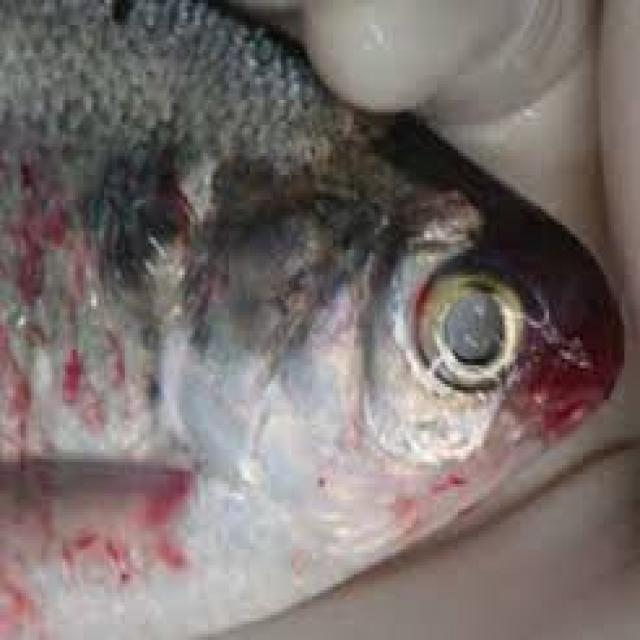EUS Disease: (2, 4, 624, 639)
